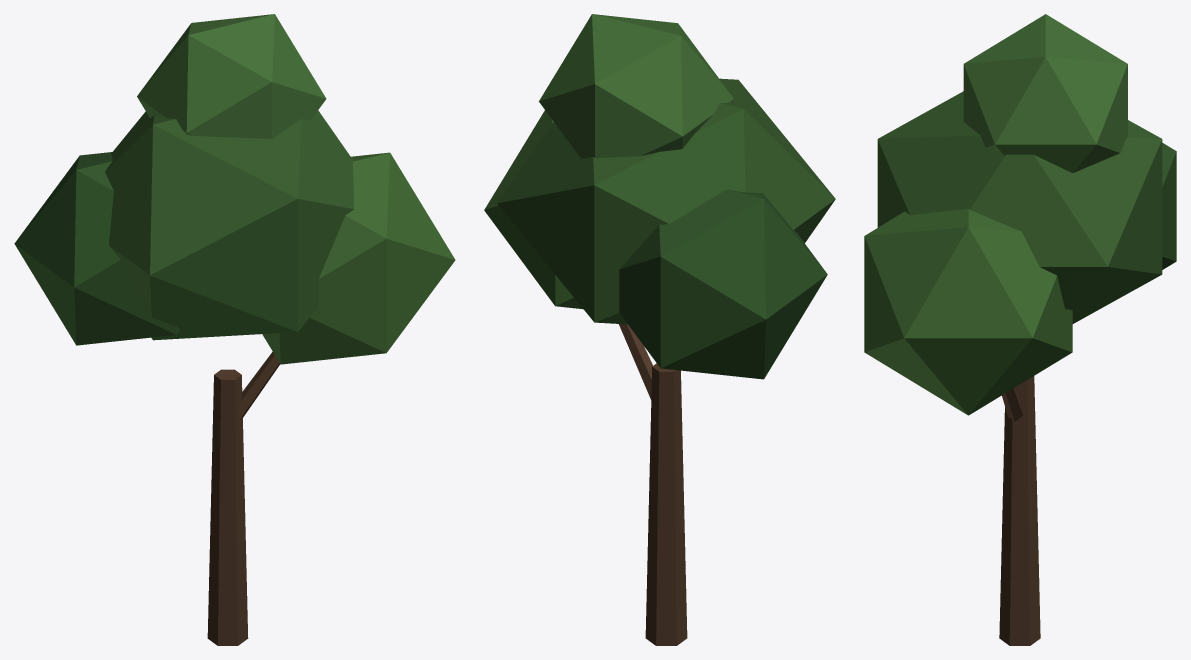
Rendered from tree_broadleaf.glb.
The picture shows the model from 3 angles, left to right: view 1: azimuth 30°, elevation 25°; view 2: azimuth 150°, elevation 25°; view 3: azimuth 270°, elevation 25°; orthographic projection. The views are drawn at different scales.
Visible parts, largest first — view 1: tree_broadleaf; view 2: tree_broadleaf; view 3: tree_broadleaf.
Boxes of the visible parts, x1,y1,x2,y2 form: tree_broadleaf: (14, 14, 455, 645); tree_broadleaf: (484, 14, 835, 645); tree_broadleaf: (864, 14, 1176, 645).
Bounding box in the file's own units: 5.95 × 10.48 × 4.85.
